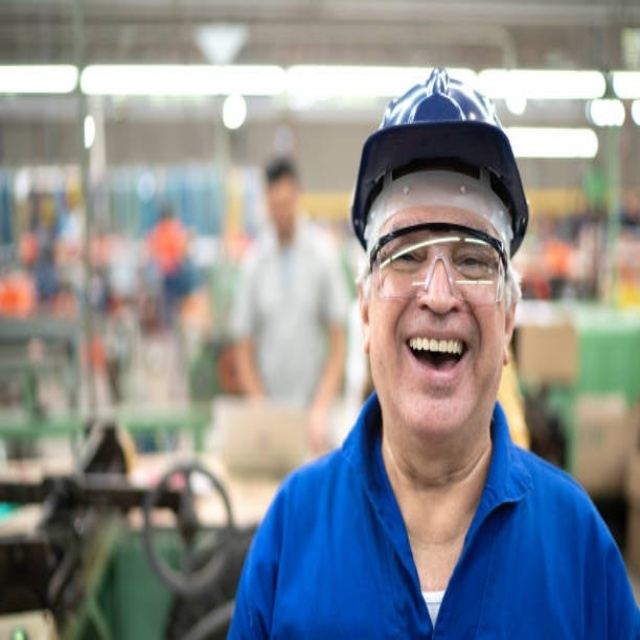Gafas: (365, 226, 508, 307)
Sin_mascara: (396, 315, 479, 408)
